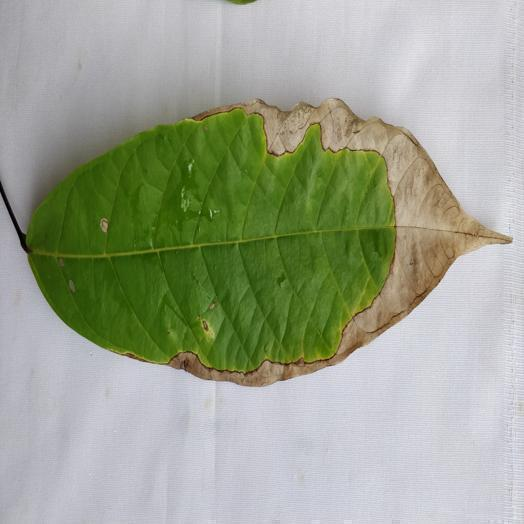Potassium: (27, 100, 510, 384)
